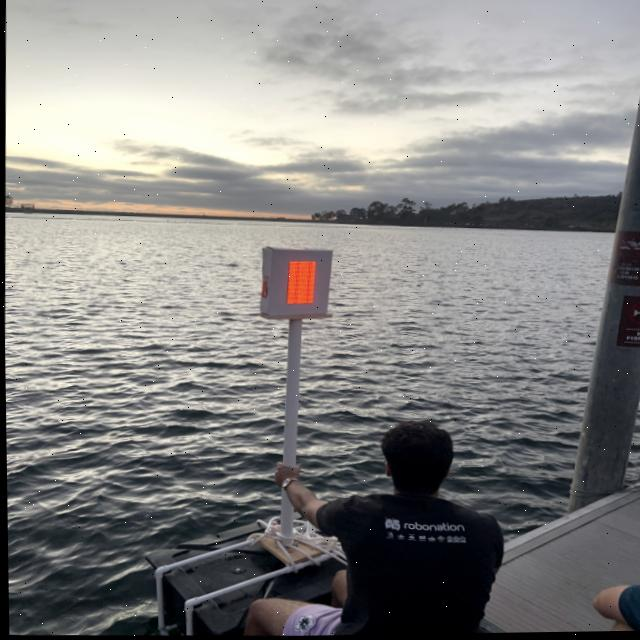led: (265, 251, 328, 319)
